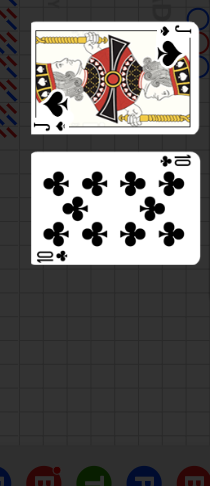10C: (35, 248, 70, 263), (158, 154, 192, 169)
JS: (33, 89, 80, 133), (154, 22, 200, 66)
